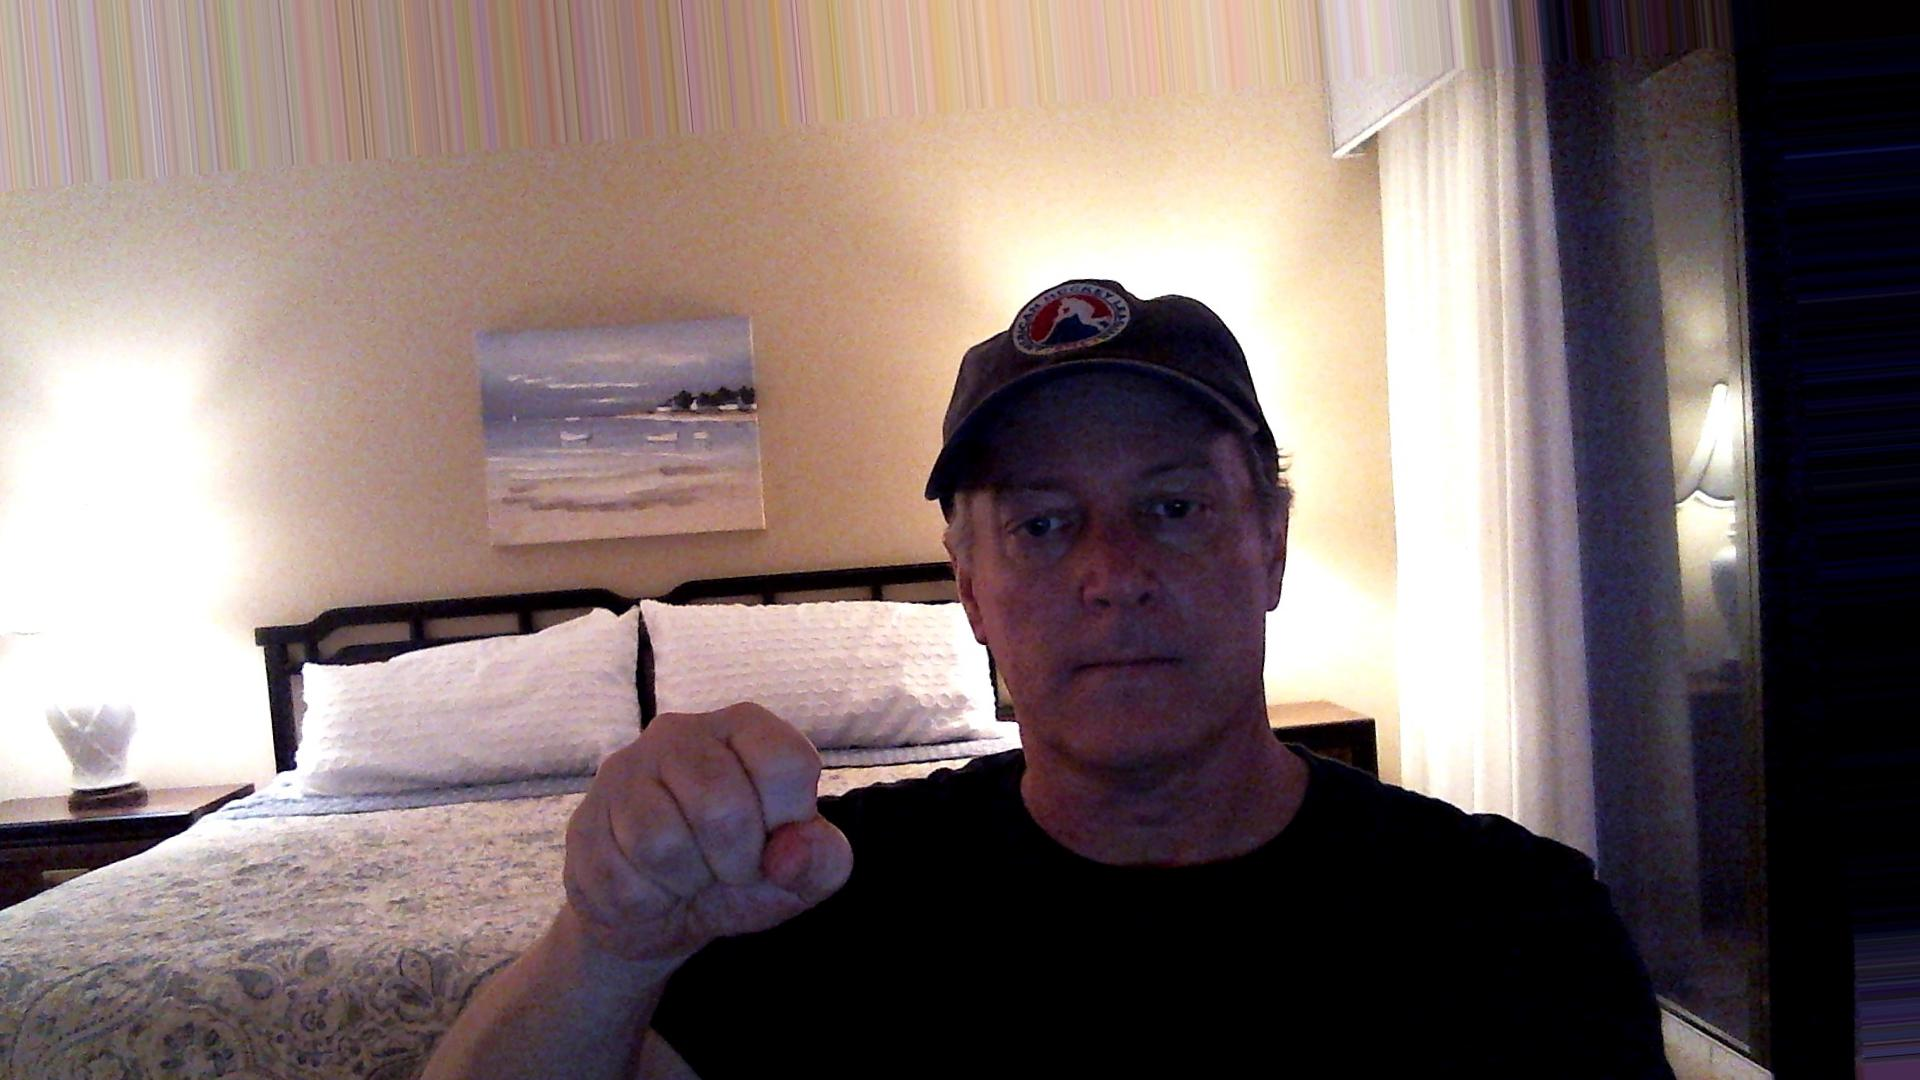Yes: (553, 683, 890, 968)
